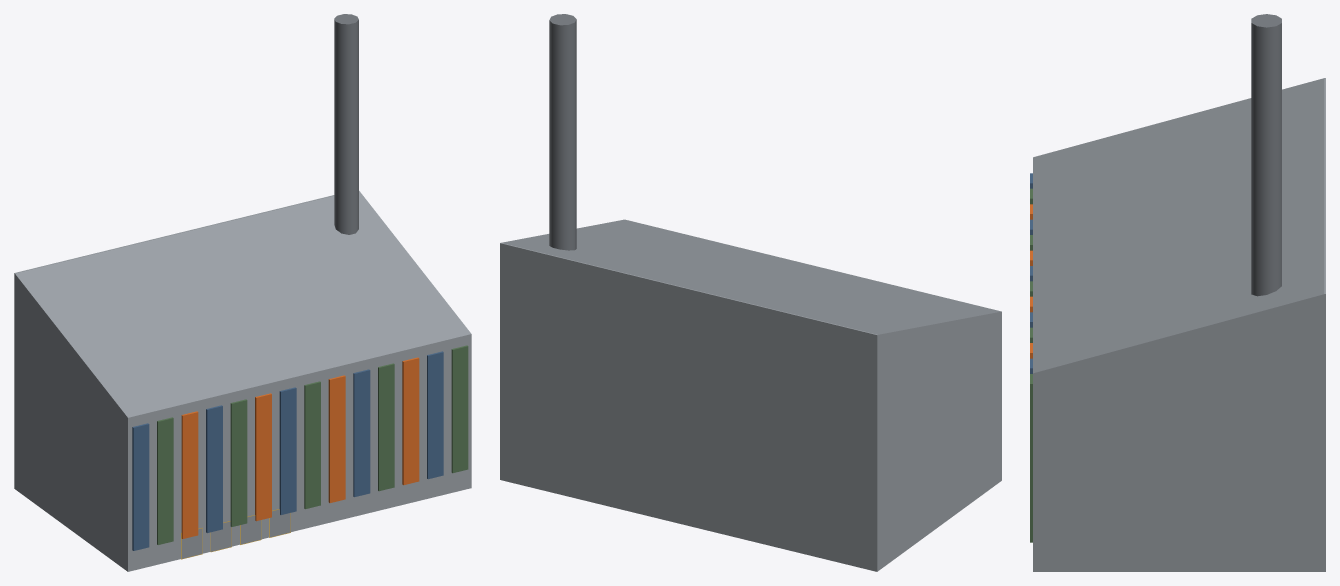
File: incinerateur.glb
3 views of the same model, side by side, from view 1: azimuth 30°, elevation 25°; view 2: azimuth 150°, elevation 25°; view 3: azimuth 270°, elevation 25° (orthographic). The views are drawn at different scales.
Visible parts, largest first — view 1: incinerateur; view 2: incinerateur; view 3: incinerateur.
Boxes of the visible parts, bbox=[...] form: incinerateur: bbox=[14, 14, 471, 571]; incinerateur: bbox=[500, 14, 1001, 571]; incinerateur: bbox=[1030, 14, 1325, 571].
Bounding box in the file's own units: 70 × 80.1 × 40.5.
1 material, 1 textured.
